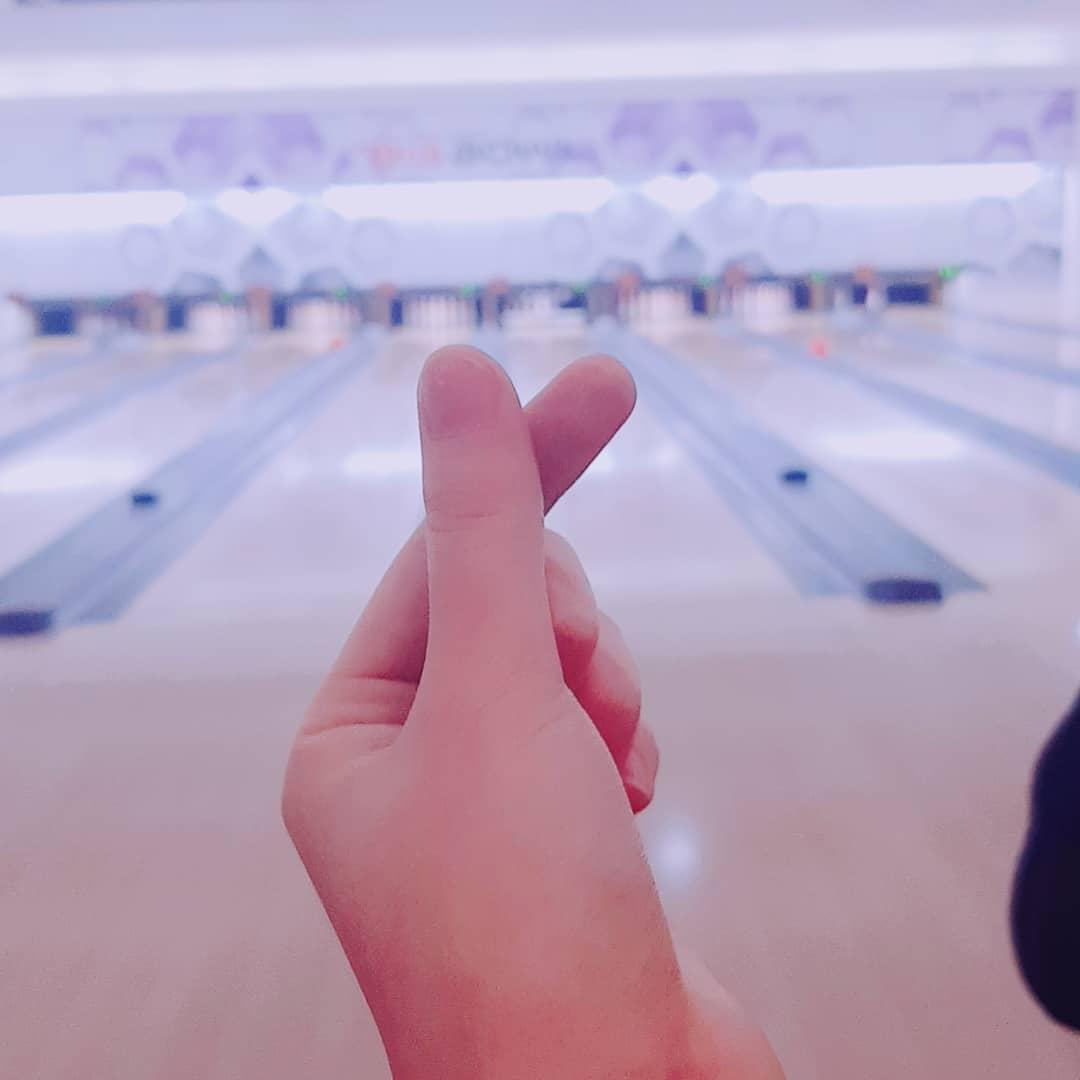heart gesture: (410, 339, 645, 554)
